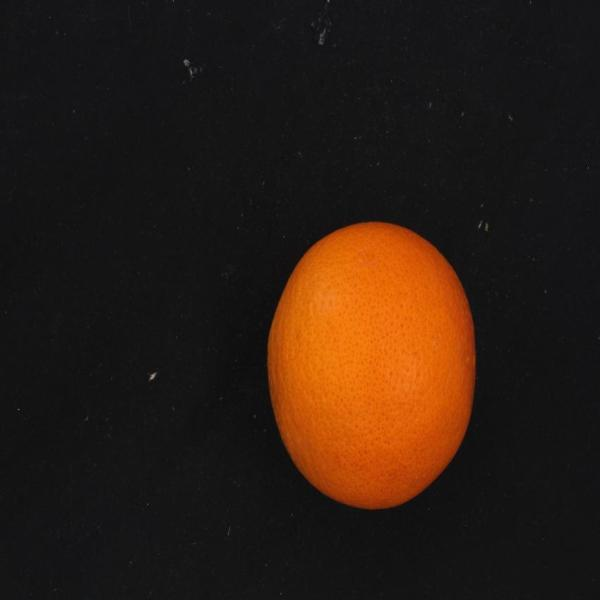Sana: (260, 214, 486, 516)
